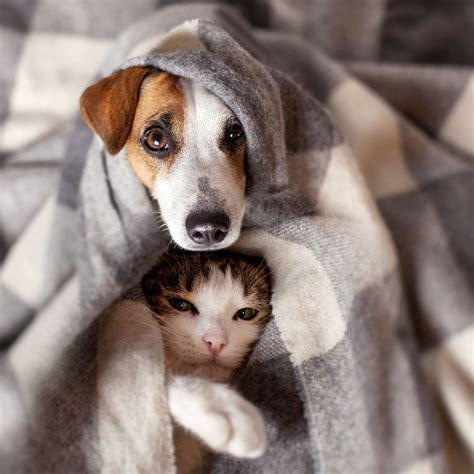cat: (143, 250, 271, 457)
dog: (83, 67, 247, 250)
